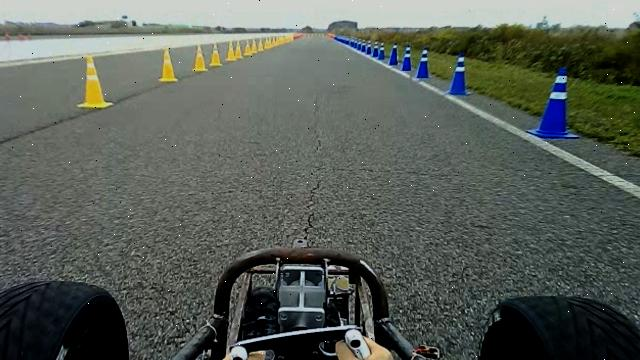blue cone: (526, 66, 580, 139), (448, 52, 471, 96), (415, 46, 431, 78), (401, 44, 412, 71), (388, 43, 398, 66), (378, 41, 386, 60), (372, 42, 379, 58), (366, 40, 372, 55)
yellow cone: (76, 54, 114, 109), (159, 46, 178, 82), (192, 43, 208, 72), (209, 42, 222, 66), (226, 40, 237, 61), (235, 42, 244, 59), (251, 39, 259, 54), (244, 42, 252, 56)
